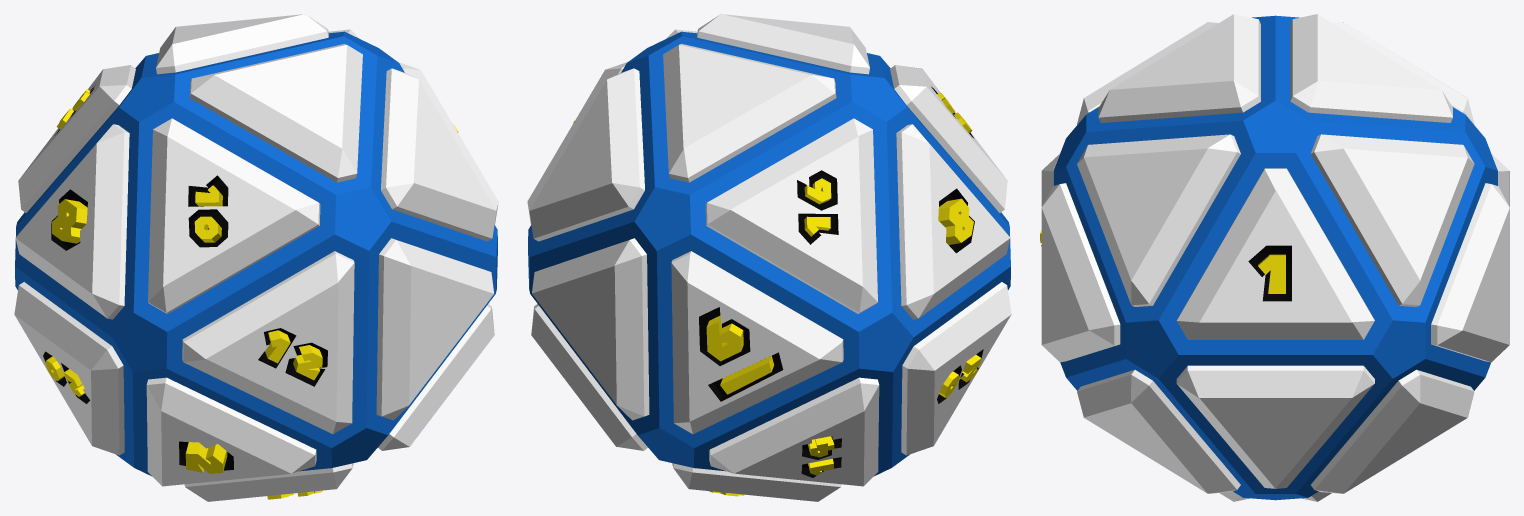
File: PartyDice_d20.glb
3 renders of one model, left to right at view 1: azimuth 30°, elevation 25°; view 2: azimuth 150°, elevation 25°; view 3: azimuth 270°, elevation 25°, orthographic.
Parts seen in each view (by area): view 1: D20.005; view 2: D20.005; view 3: D20.005.
Boxes of the visible parts, <box> form: D20.005: <box>14,14,498,501</box>; D20.005: <box>527,14,1011,501</box>; D20.005: <box>1040,14,1509,501</box>.
Bounding box in the file's own units: 162 × 162 × 162.
